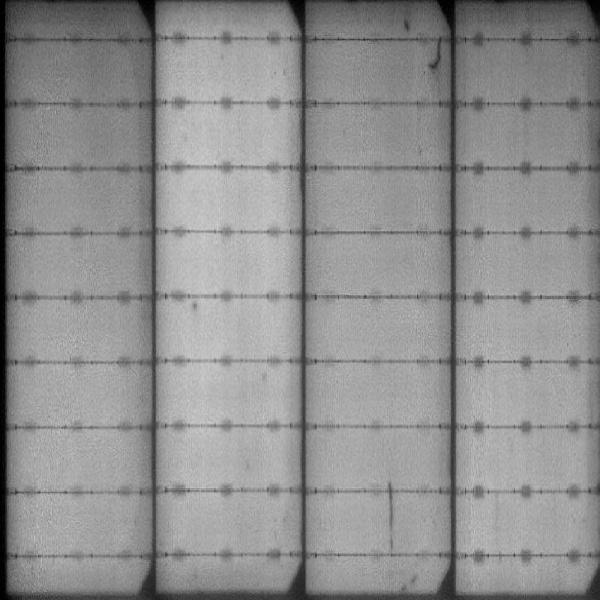scratch: (381, 480, 401, 554), (426, 31, 443, 81)
